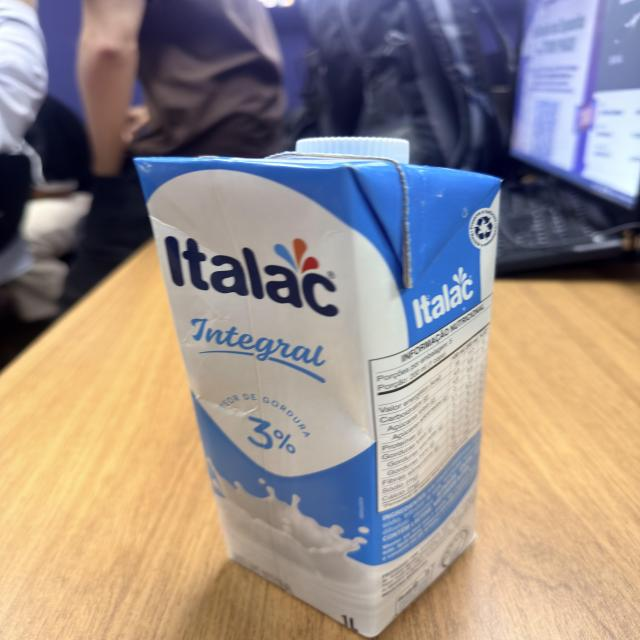Caixa de Leite: (133, 134, 504, 639)
